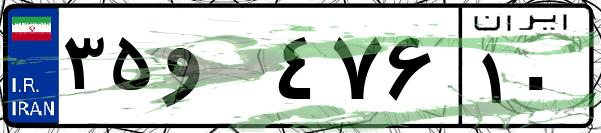0: (525, 38, 570, 115)
1: (475, 38, 525, 113)
3: (57, 26, 110, 100)
4: (270, 28, 330, 110)
5: (110, 28, 158, 98)
6: (385, 28, 445, 110)
7: (330, 28, 385, 110)
و: (158, 20, 270, 120)
